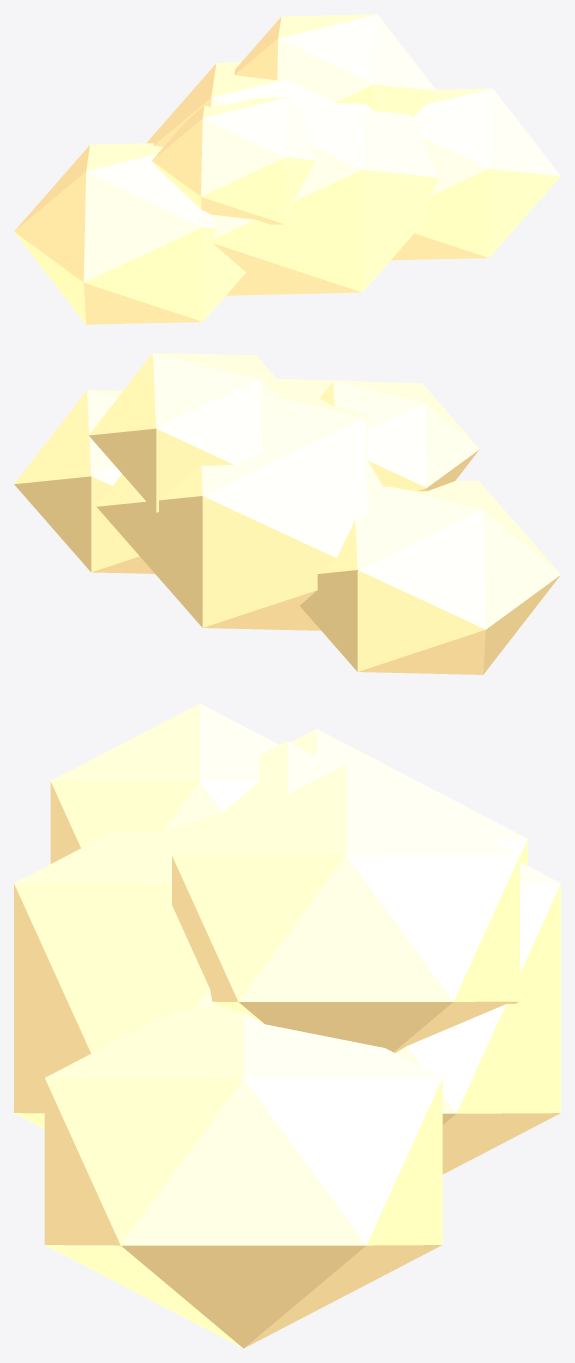
The model's file is golden-cloud.glb.
3 views of the same model, one above another, from view 1: azimuth 30°, elevation 25°; view 2: azimuth 150°, elevation 25°; view 3: azimuth 270°, elevation 25° (orthographic). The views are drawn at different scales.
Visible parts, largest first — view 1: god golden-cloud; view 2: god golden-cloud; view 3: god golden-cloud.
Part boxes in pixels (box(x1,y1,x2,y2)): god golden-cloud: box(14, 14, 560, 324); god golden-cloud: box(14, 353, 560, 674); god golden-cloud: box(14, 703, 560, 1348).
Bounding box in the file's own units: 6.81 × 3.28 × 3.74.
